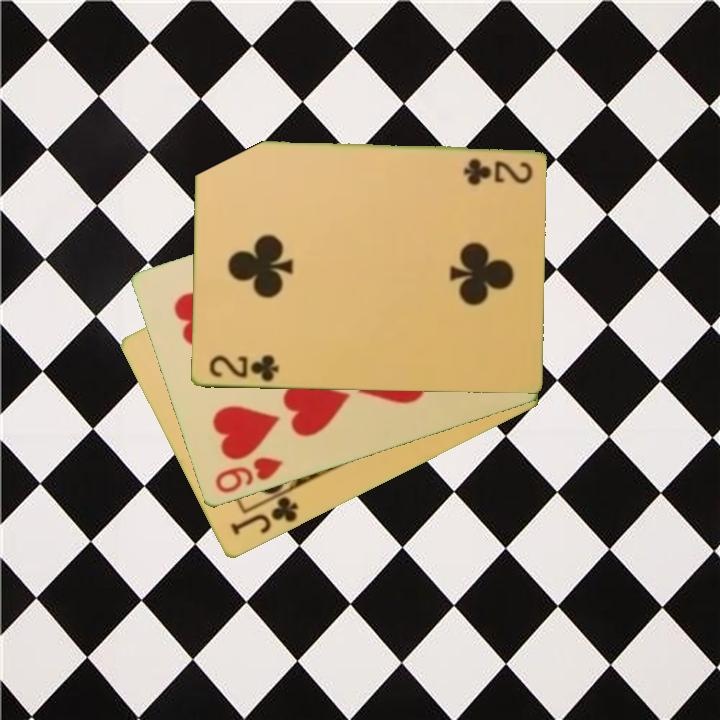2c: (205, 351, 282, 385), (459, 155, 534, 184)
9h: (211, 454, 286, 497)
Jc: (226, 487, 301, 539)
